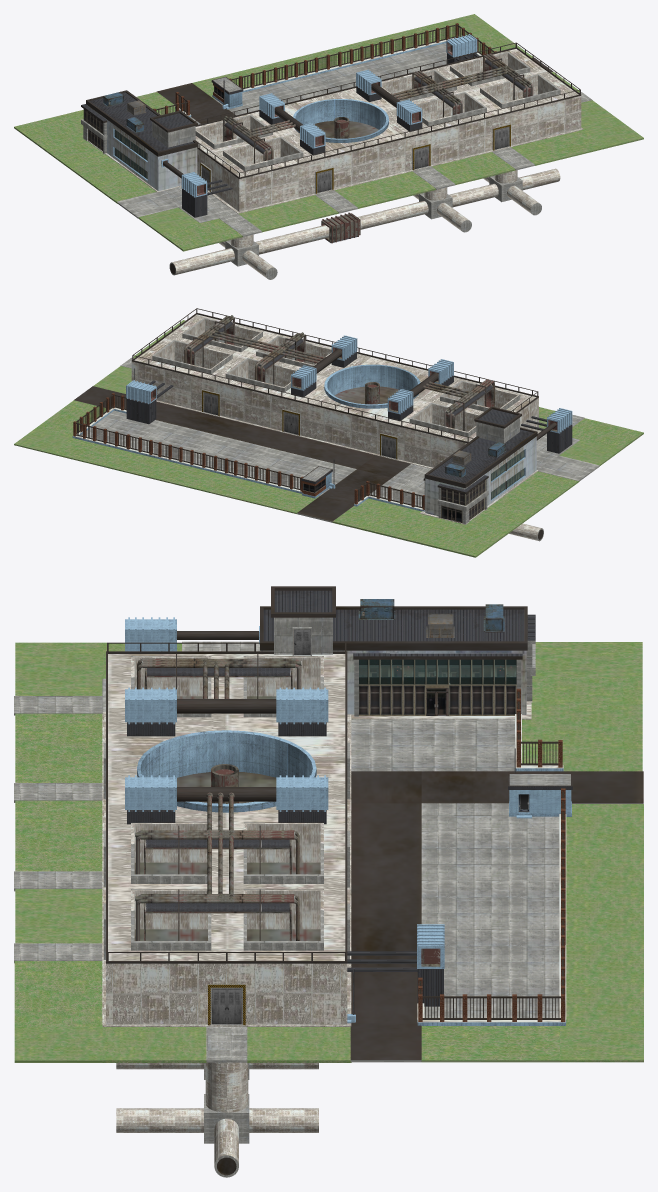
Rendered from sewage_facility.glb.
The picture shows the model from 3 angles, top to bottom: view 1: azimuth 30°, elevation 25°; view 2: azimuth 150°, elevation 25°; view 3: azimuth 270°, elevation 25°; orthographic projection. The views are drawn at different scales.
Visible parts, largest first — view 1: Cube_0, Grass_4, Gate_2, Cylinder_3, Siding_1; view 2: Cube_0, Gate_2, Grass_4, Siding_1, Cylinder_3; view 3: Cube_0, Gate_2, Grass_4, Siding_1, Cylinder_3.
Boxes of the visible parts, box(x1,y1,x2,y2) form: Cube_0: box(161, 42, 583, 217); Grass_4: box(14, 14, 643, 251); Gate_2: box(117, 23, 592, 236); Cylinder_3: box(169, 168, 560, 279); Siding_1: box(81, 90, 198, 192); Cube_0: box(131, 308, 572, 468); Gate_2: box(72, 357, 599, 522); Grass_4: box(14, 320, 643, 557); Siding_1: box(420, 406, 538, 524); Cylinder_3: box(509, 523, 543, 541); Cube_0: box(102, 617, 351, 1026); Gate_2: box(14, 641, 643, 1062); Grass_4: box(14, 642, 643, 1062); Siding_1: box(260, 586, 535, 719); Cylinder_3: box(116, 1062, 318, 1177).
Bounding box in the file's own units: 80.05 × 22.63 × 50.94.
2 materials, 2 textured.
